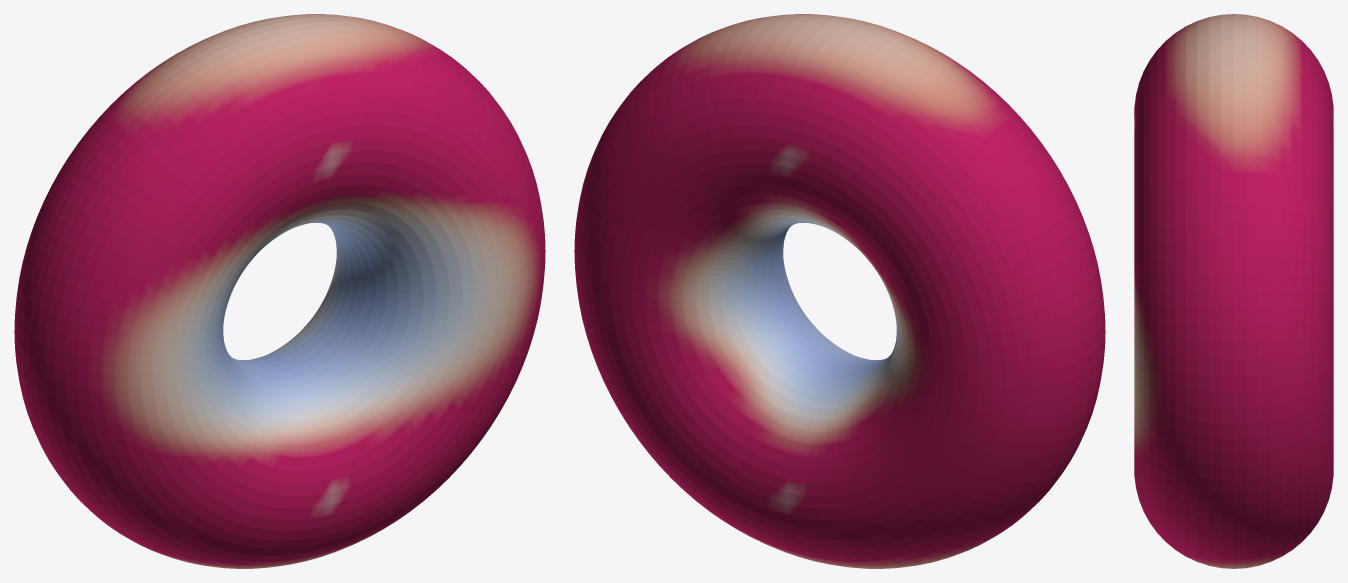
3 views of the same model, side by side, from view 1: azimuth 30°, elevation 25°; view 2: azimuth 150°, elevation 25°; view 3: azimuth 270°, elevation 25° (orthographic). The views are drawn at different scales.
Visible parts, largest first — view 1: world; view 2: world; view 3: world.
Boxes of the visible parts, x1,y1,x2,y2 form: world: [14, 14, 545, 568]; world: [574, 14, 1105, 568]; world: [1134, 14, 1333, 568].
Size of the model in its own units: 27.07 by 27.07 by 9.71.
